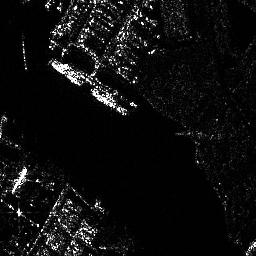ship: (91, 87, 127, 117), (51, 60, 80, 87)
